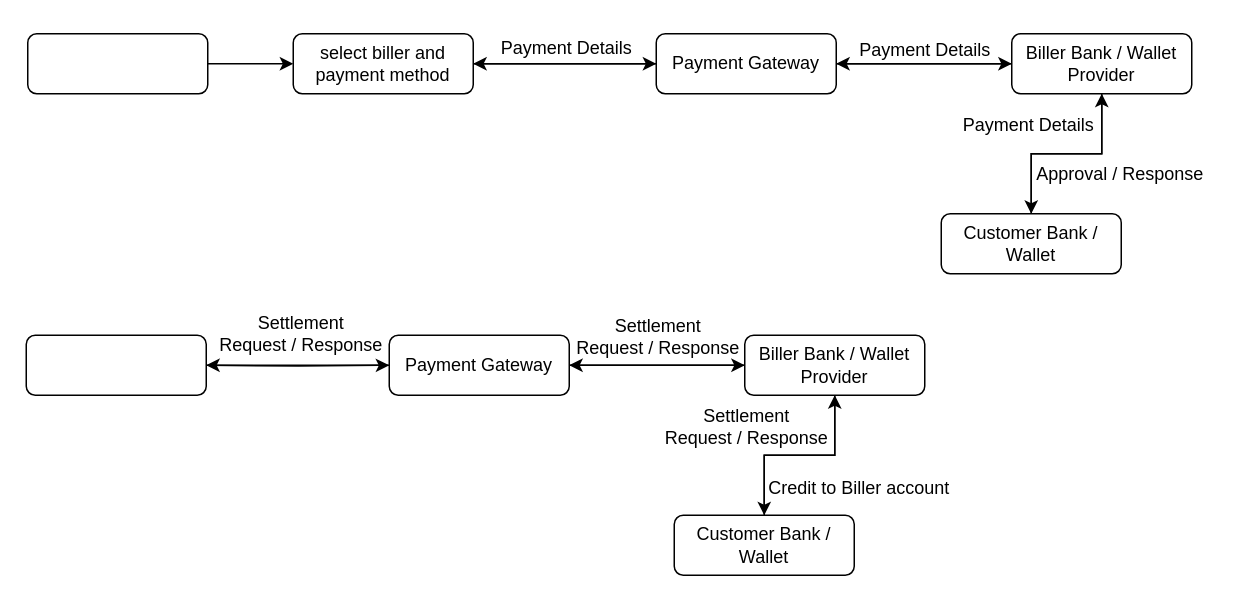
Image size: 1244x614. Some labels were removed from this diagram. The shapes that lost their labels are listed below. From the top down, each one's centre as x and y in pixels, then its label:
point (117, 63): Customer initiates payment
point (115, 364): Payment / Wallet Service Provider
